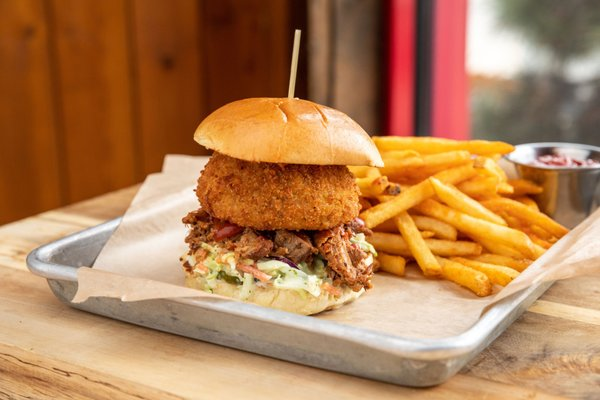soup: (179, 96, 393, 314)
sushi: (503, 141, 600, 230)
